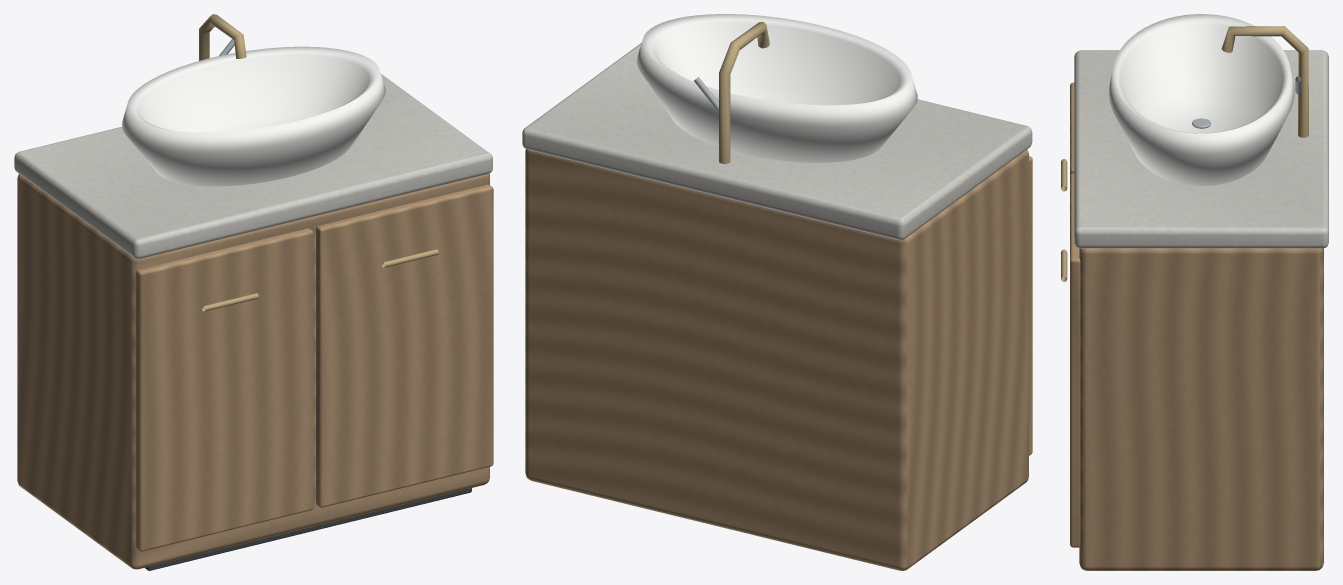
File: sink.glb
The picture shows the model from 3 angles, left to right: view 1: azimuth 30°, elevation 25°; view 2: azimuth 150°, elevation 25°; view 3: azimuth 270°, elevation 25°; orthographic projection. The views are drawn at different scales.
Parts seen in each view (by area): view 1: 家具_sink; view 2: 家具_sink; view 3: 家具_sink.
Part boxes in pixels (left/top/right/bottom): 家具_sink: left=14, top=14, right=493, bottom=570; 家具_sink: left=522, top=14, right=1032, bottom=570; 家具_sink: left=1061, top=14, right=1328, bottom=570.
Size of the model in its own units: 0.8 by 0.95 by 0.5.
Materials: 6 (2 with a texture image).
